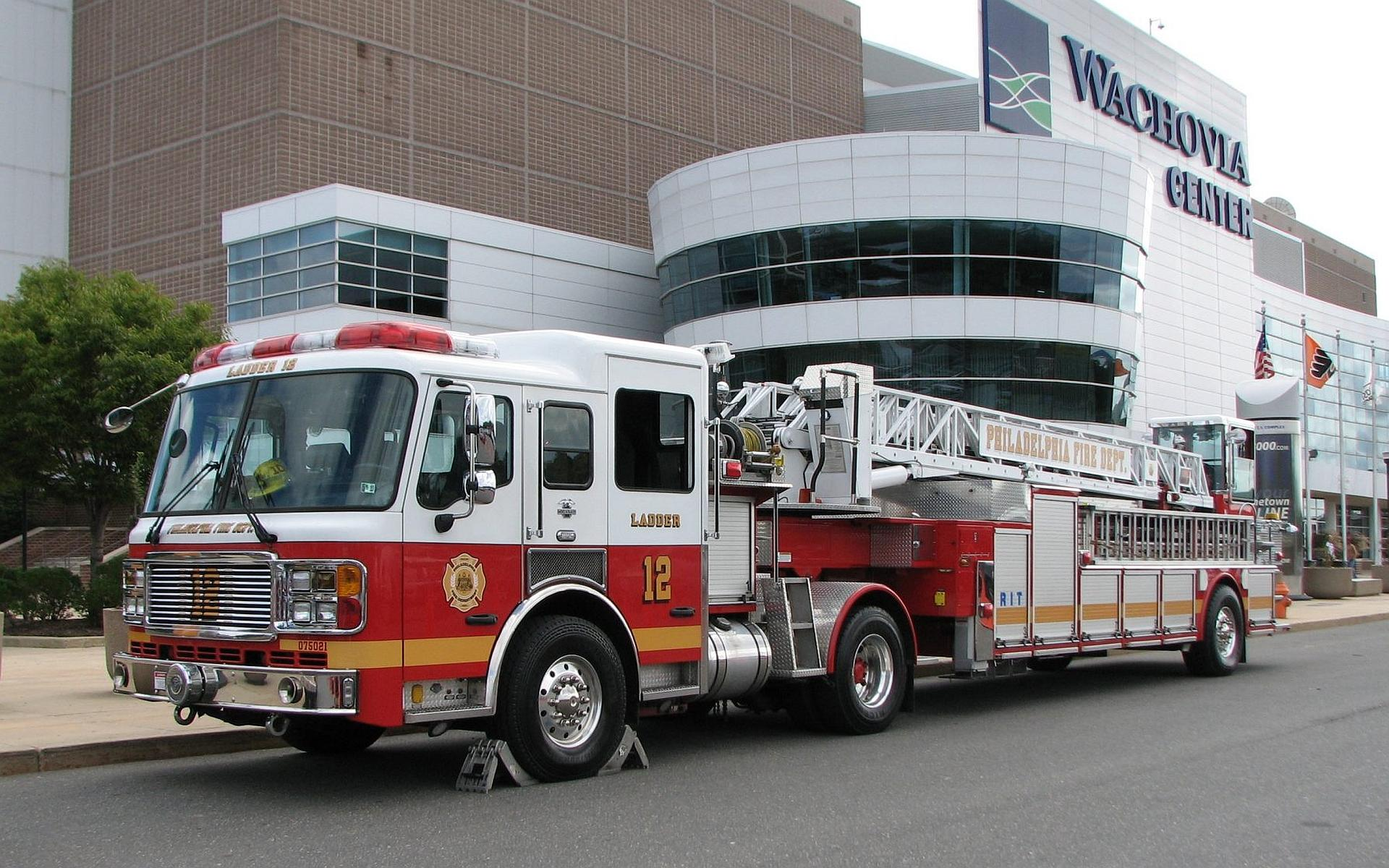Fire-engine: (101, 320, 1294, 788)
